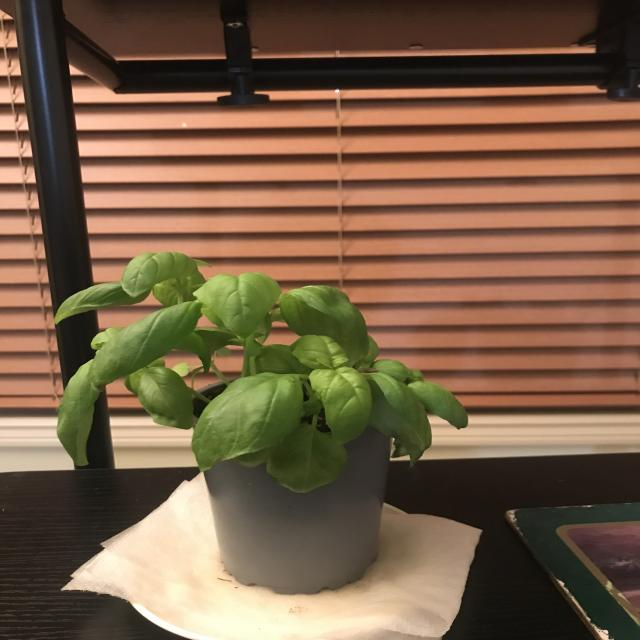dark: (385, 414, 436, 468)
healthy: (192, 371, 304, 474), (92, 300, 198, 385), (278, 286, 372, 358), (195, 274, 282, 336), (53, 281, 148, 325), (121, 252, 196, 294)
wilt: (57, 359, 123, 469)
yellow: (270, 429, 348, 491), (313, 369, 377, 441)
